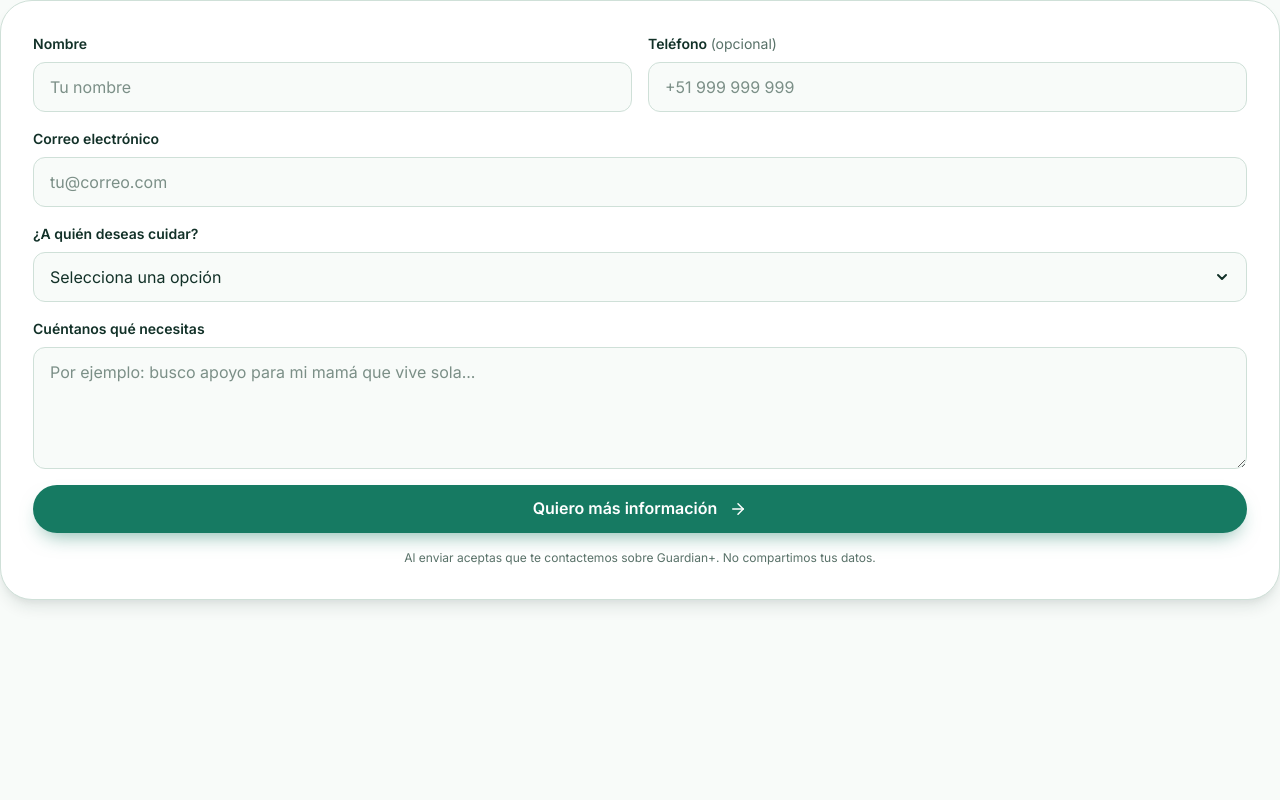
ContactForm › sends a valid request and confirms it on screen
This screenshot has width=1280, height=800.
Step 1. Type "Lucía" into the field labelled "Nombre" → (332, 87), box [33,62,632,112]
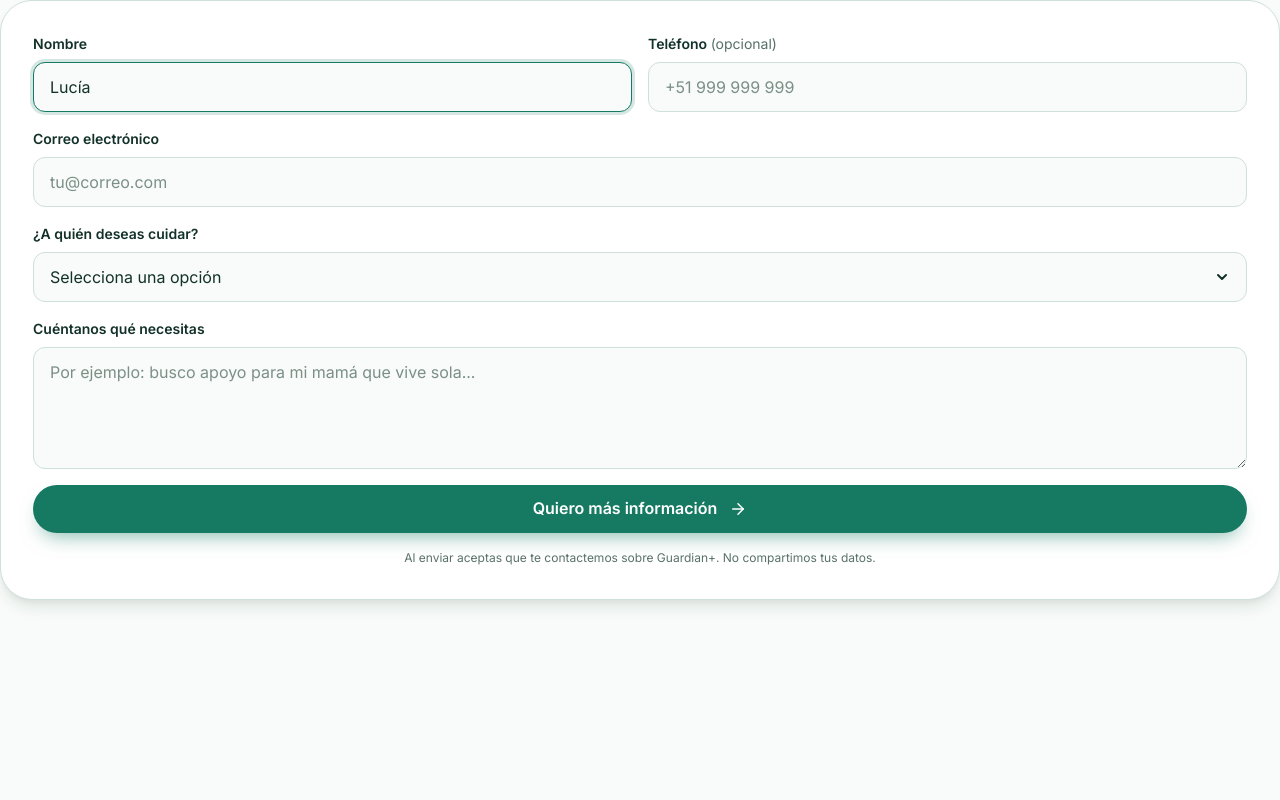
Step 2. Type "lucia@correo.com" into the field labelled "Correo electrónico" → (640, 182), box [33,157,1247,207]
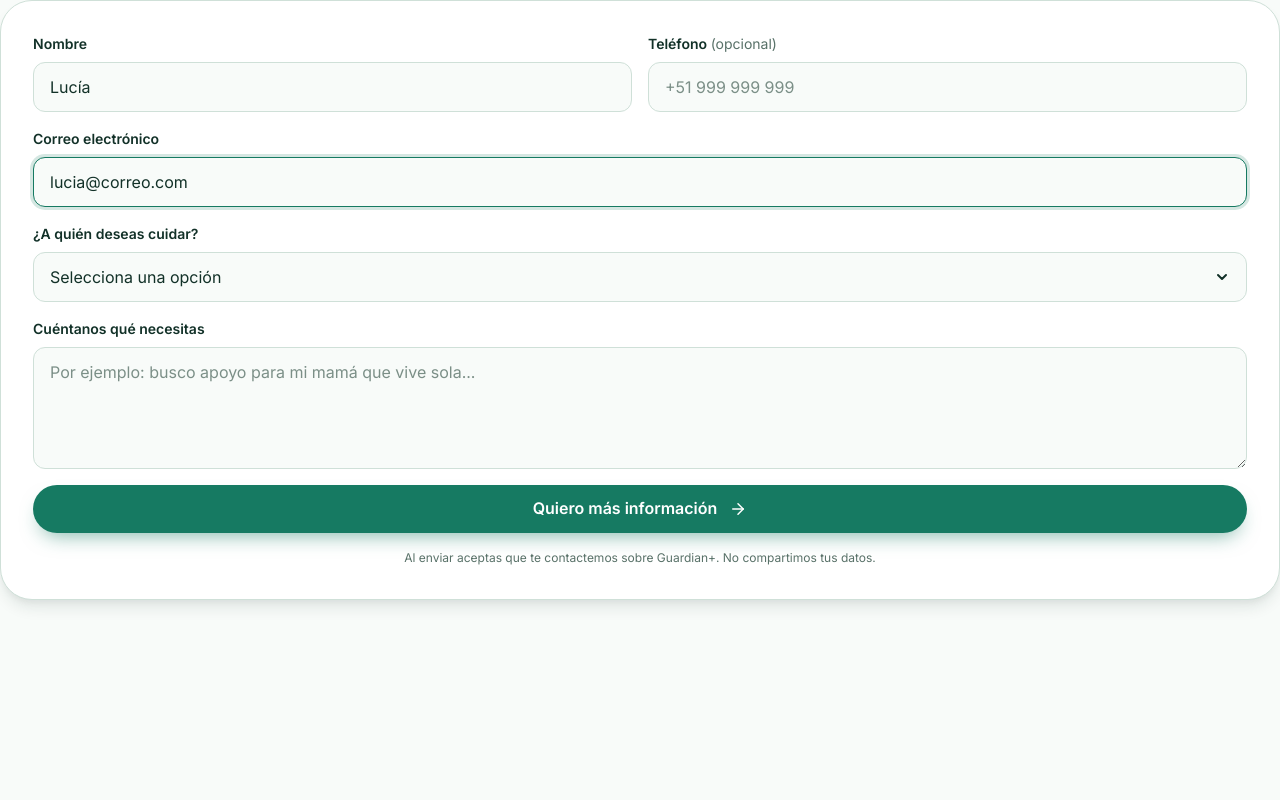
Step 3. Select "Mi mamá o mi papá" in the dropdown labelled "¿A quién deseas cuidar?" → (640, 277), box [33,252,1247,302]
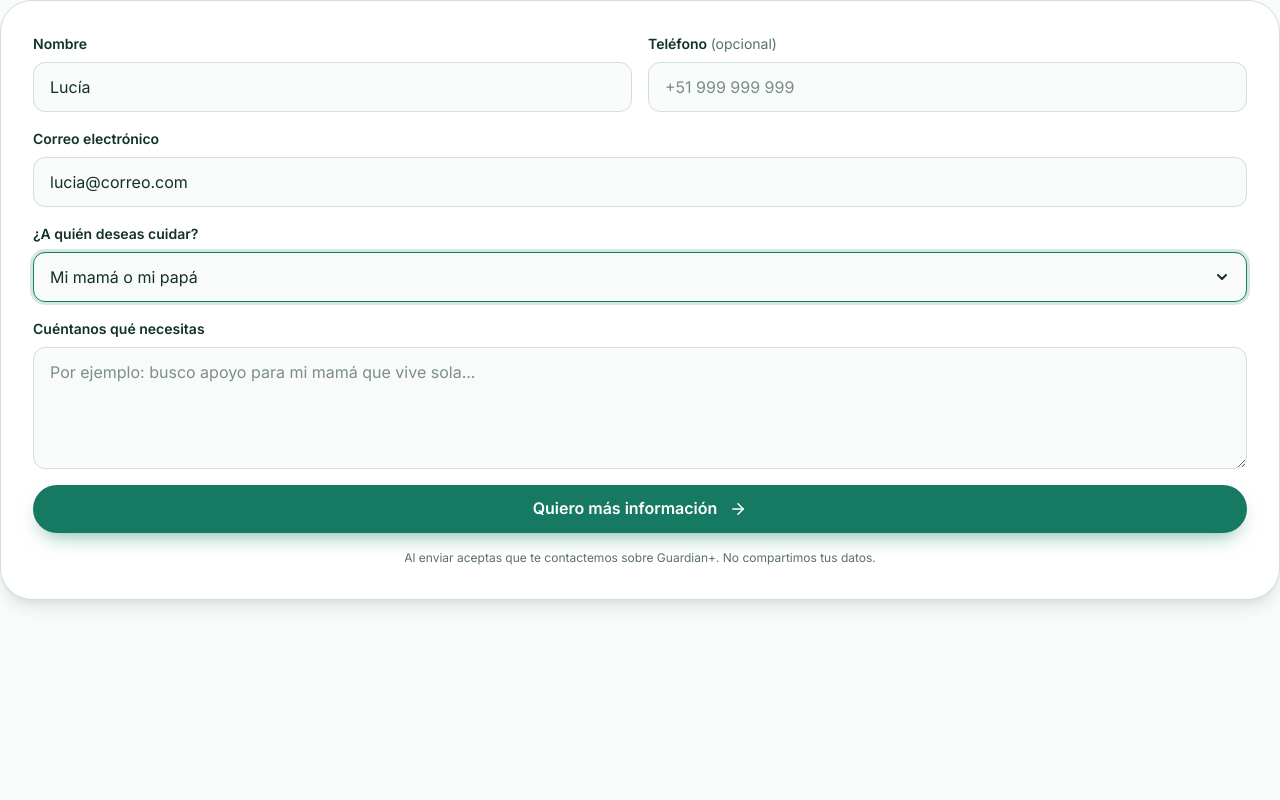
Step 4. Type "Busco apoyo para mi papá." into the text box labelled "Cuéntanos qué necesitas" → (640, 408), box [33,347,1247,469]
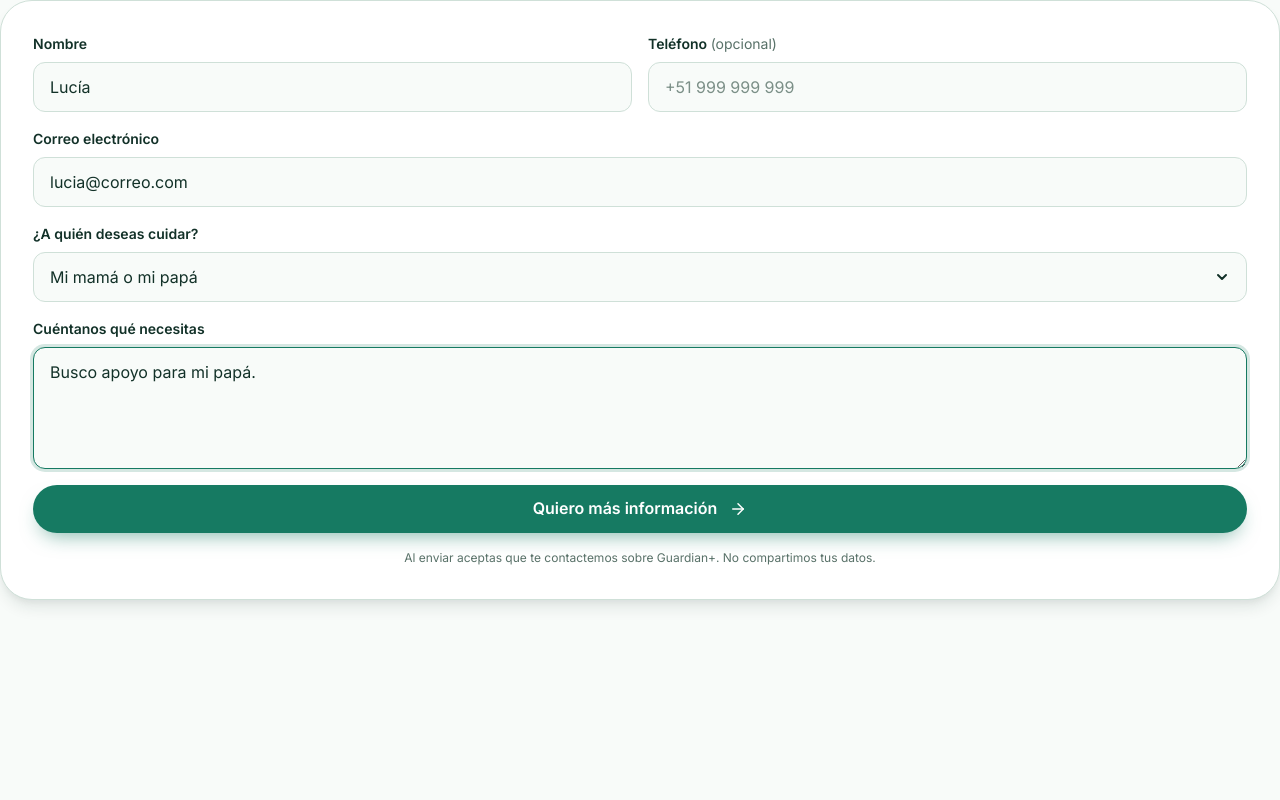
Step 5. Click the button "Quiero más información" → (640, 509), box [33,485,1247,533]
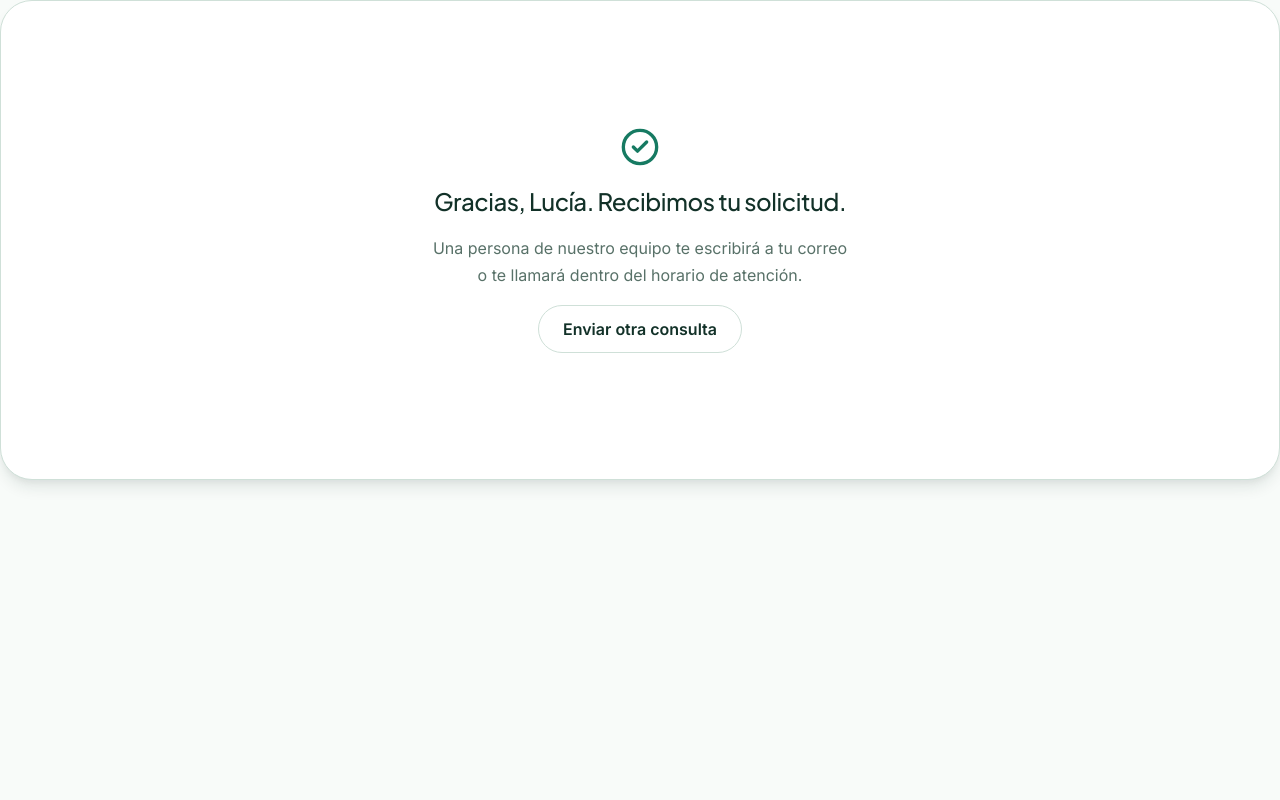
Check: the message shows "Gracias, Lucía. Recibimos tu solicitud.", box [0,0,1279,480]
